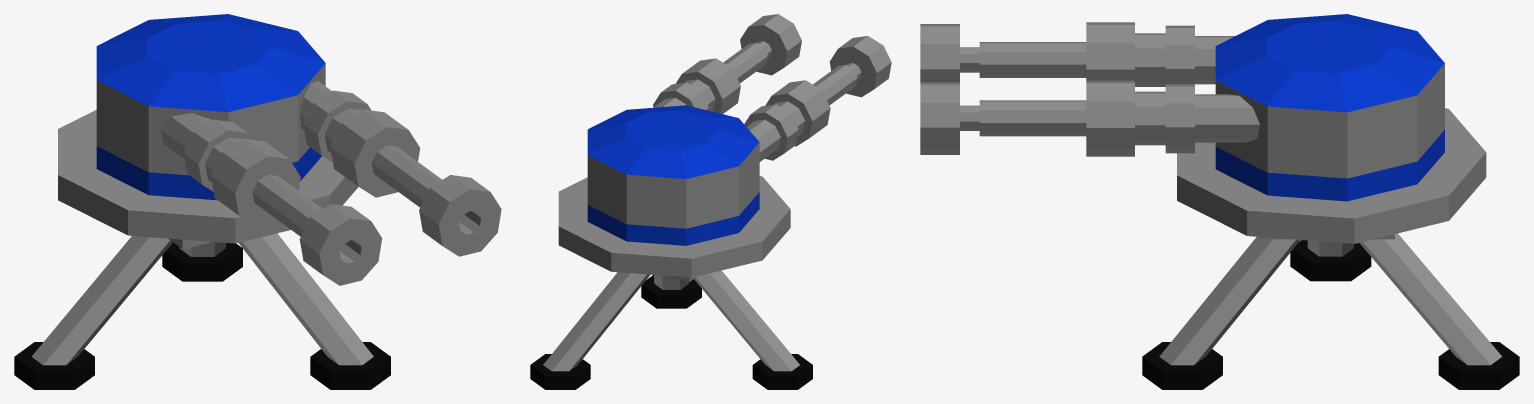
Rendered from basic-turret.fbx.
The picture shows the model from 3 angles, left to right: view 1: azimuth 30°, elevation 25°; view 2: azimuth 150°, elevation 25°; view 3: azimuth 270°, elevation 25°; orthographic projection. The views are drawn at different scales.
Visible parts, largest first — view 1: Circle; view 2: Circle; view 3: Circle.
Boxes of the visible parts, x1,y1,x2,y2 form: Circle: (14,14,501,389); Circle: (530,14,891,389); Circle: (920,14,1519,389).
Bounding box in the file's own units: 908 × 801 × 1483.
